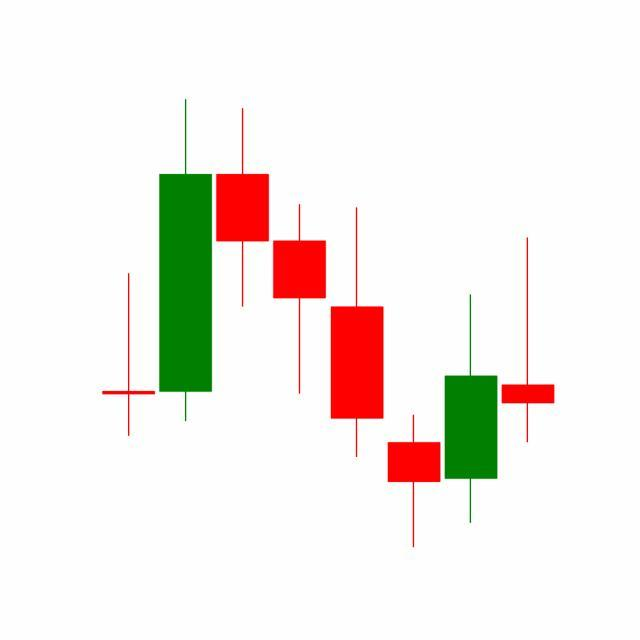Upside-Downside Gap Three Methods: (328, 203, 500, 548)
